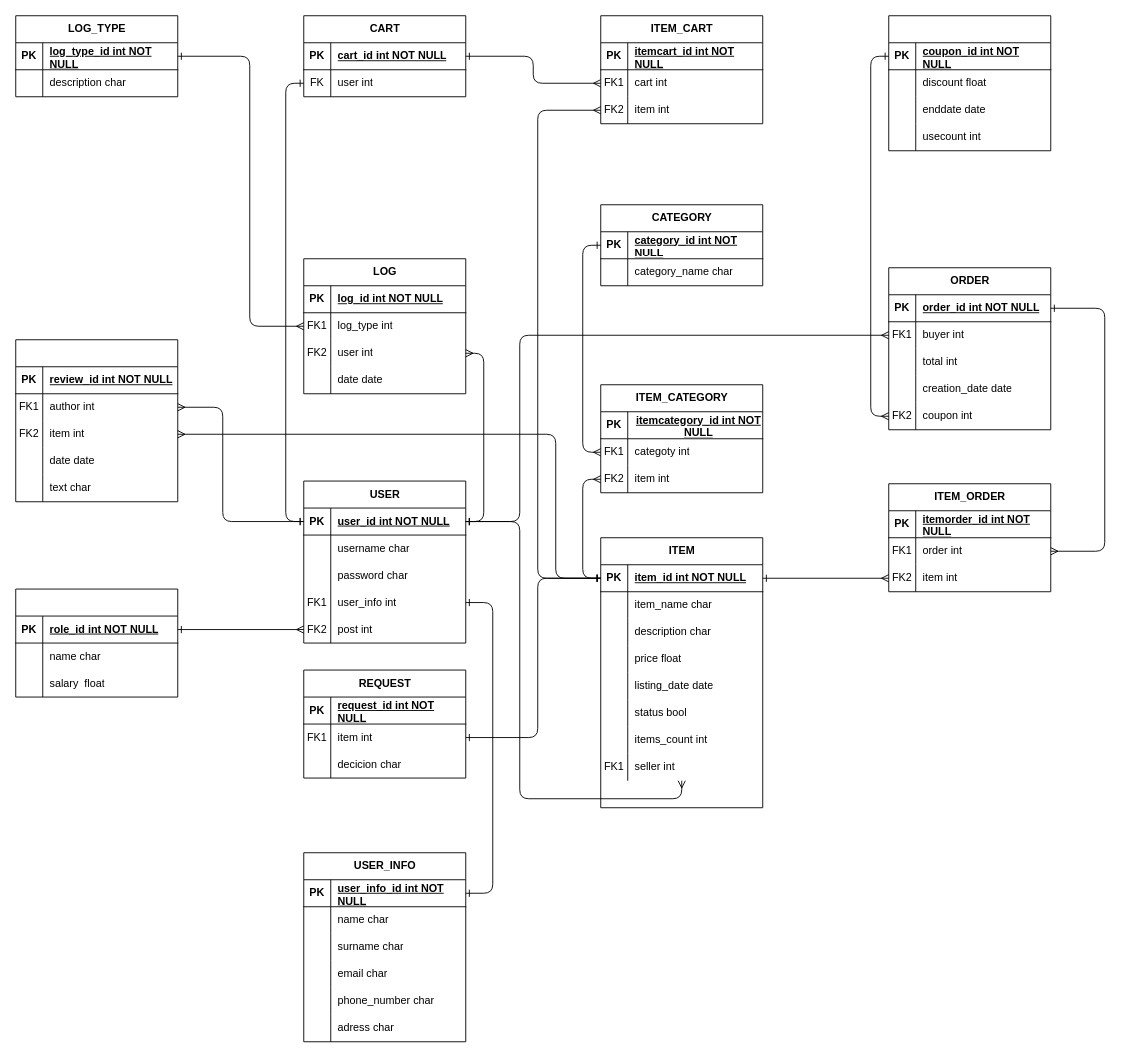
This 1129x1058 diagram has some shape labels left out. Here are the shapes that lost their labels. From the top down, the box of each, then its label:
(888, 15, 1051, 151): COUPONS
(15, 339, 178, 502): REVIEWS
(15, 588, 178, 697): ROLES
